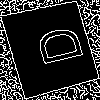D: (25, 23, 85, 70)
